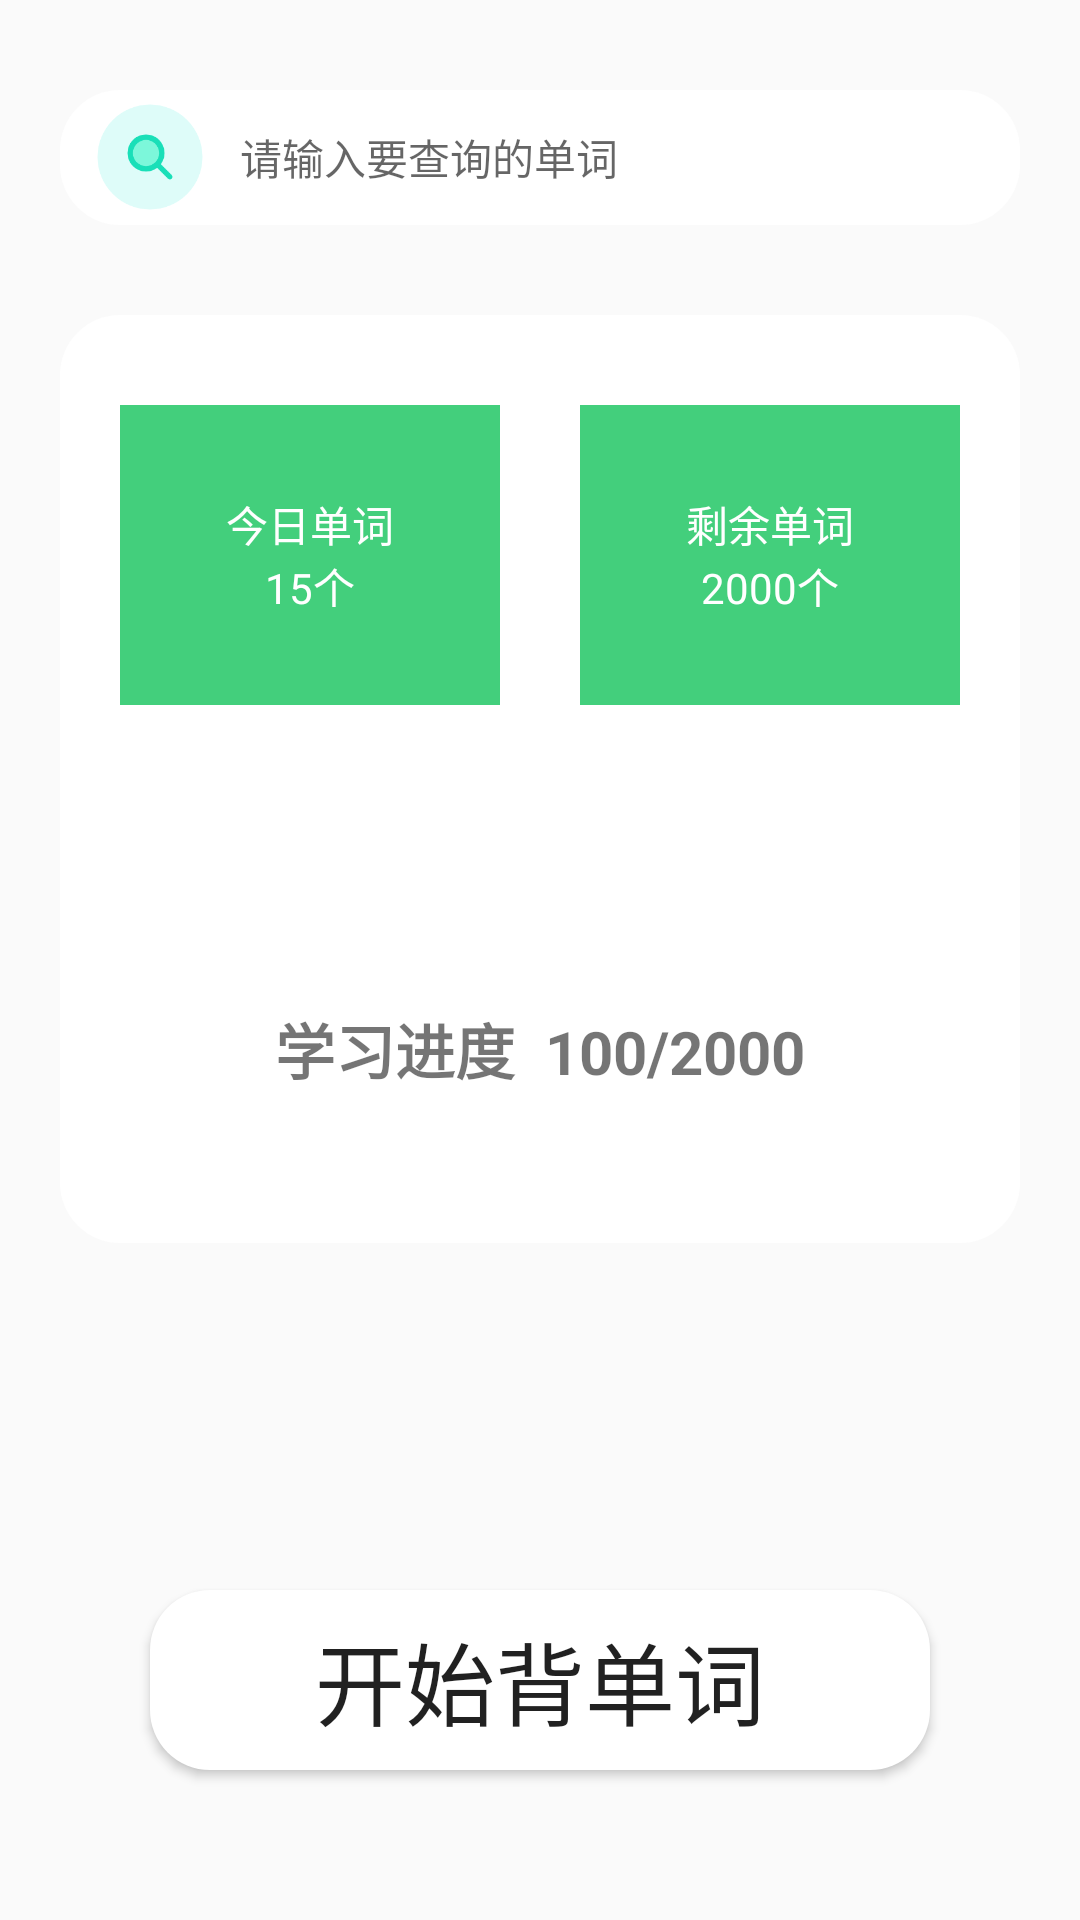

Icon click points for this 1080×1920 phone screenshot, format [x,y]:
sousuo: [150,157]
